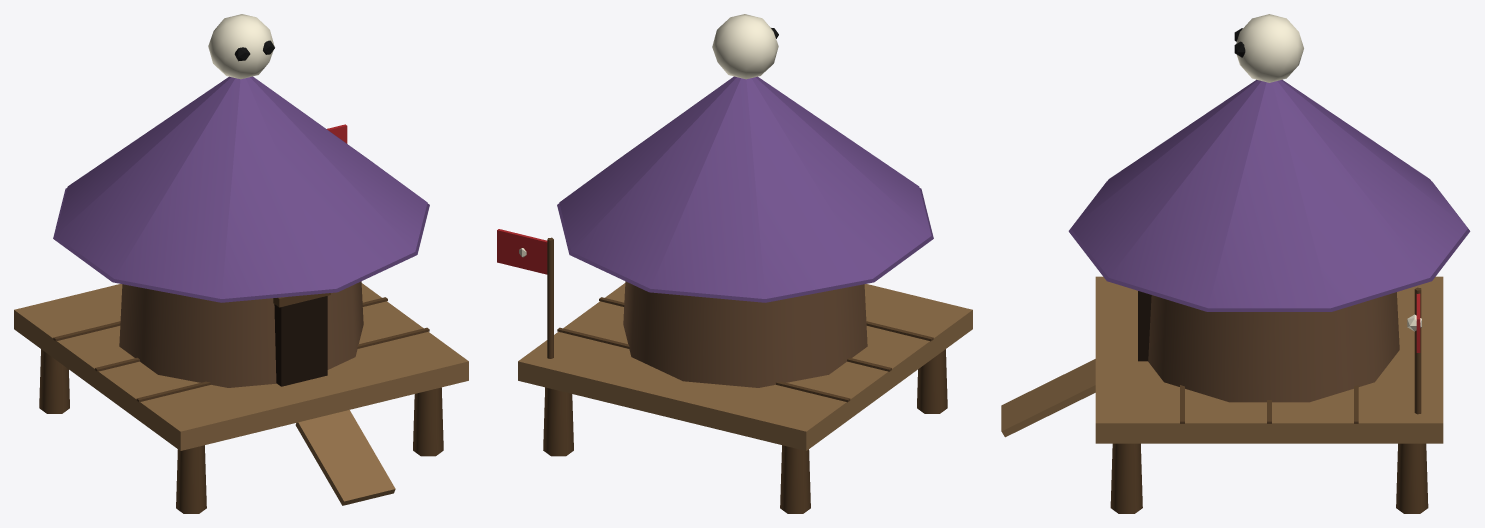
File: goblin-level1.glb
The picture shows the model from 3 angles, left to right: view 1: azimuth 30°, elevation 25°; view 2: azimuth 150°, elevation 25°; view 3: azimuth 270°, elevation 25°; orthographic projection. The views are drawn at different scales.
Bounding box in the file's own units: 3.25 × 3.83 × 3.78.
